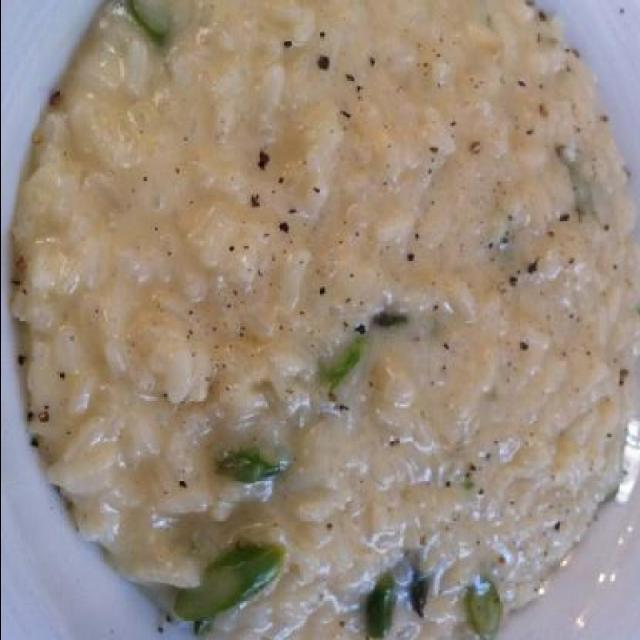Risotto: (30, 7, 632, 619)
